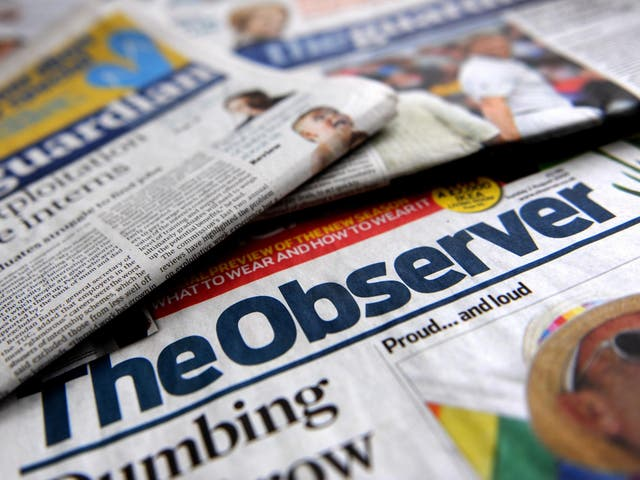news_paper: (6, 120, 640, 477), (1, 13, 439, 447), (197, 1, 640, 267)
